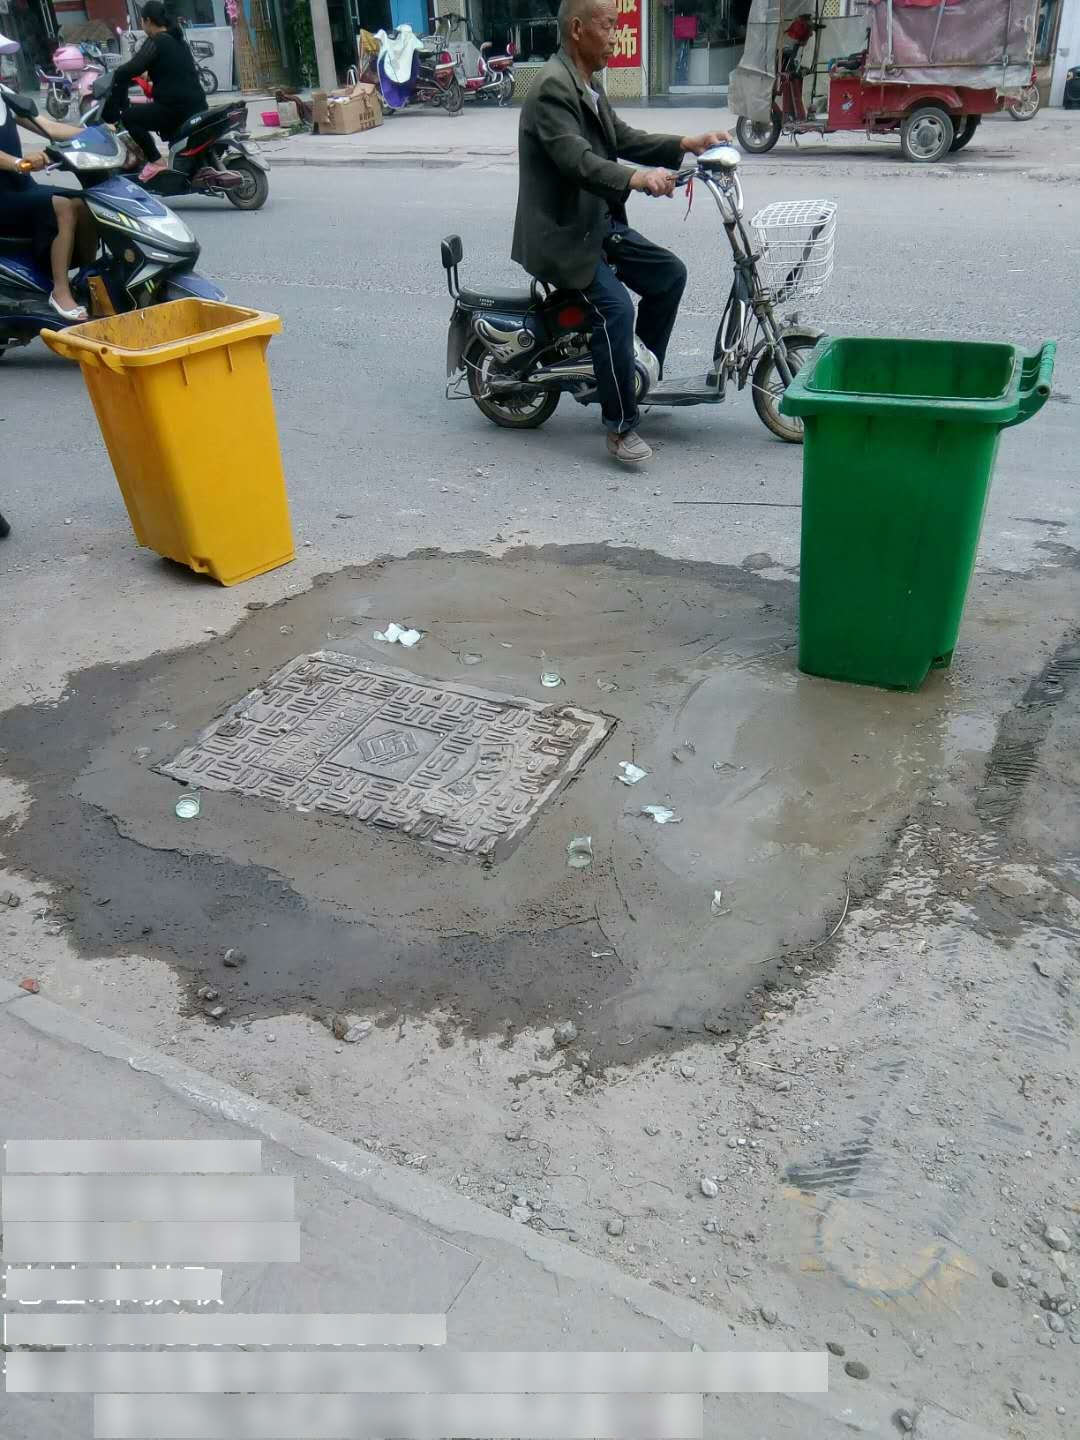good: (151, 650, 621, 862)
